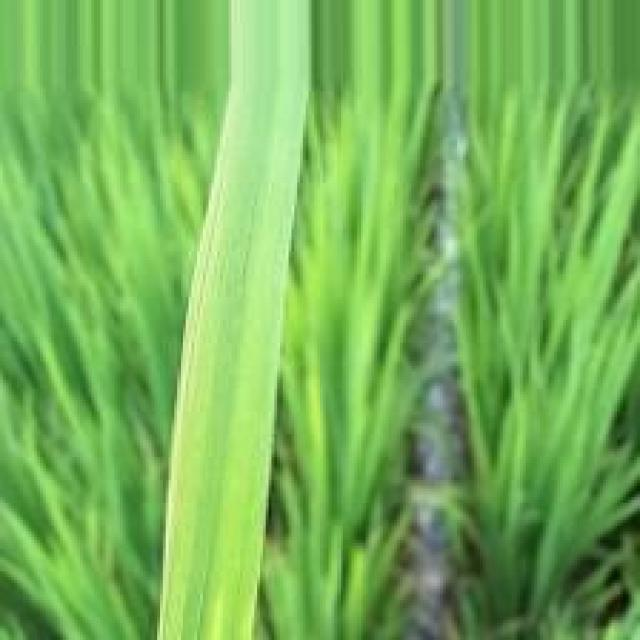HealthyLeaf: (155, 3, 309, 640)
